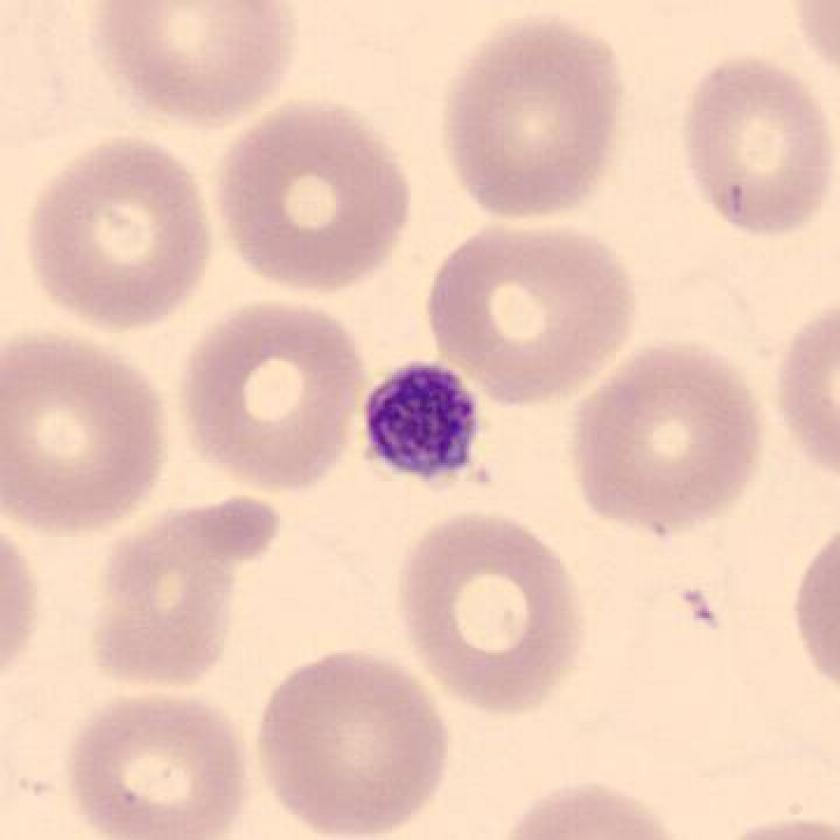platelets: (349, 353, 500, 494)
